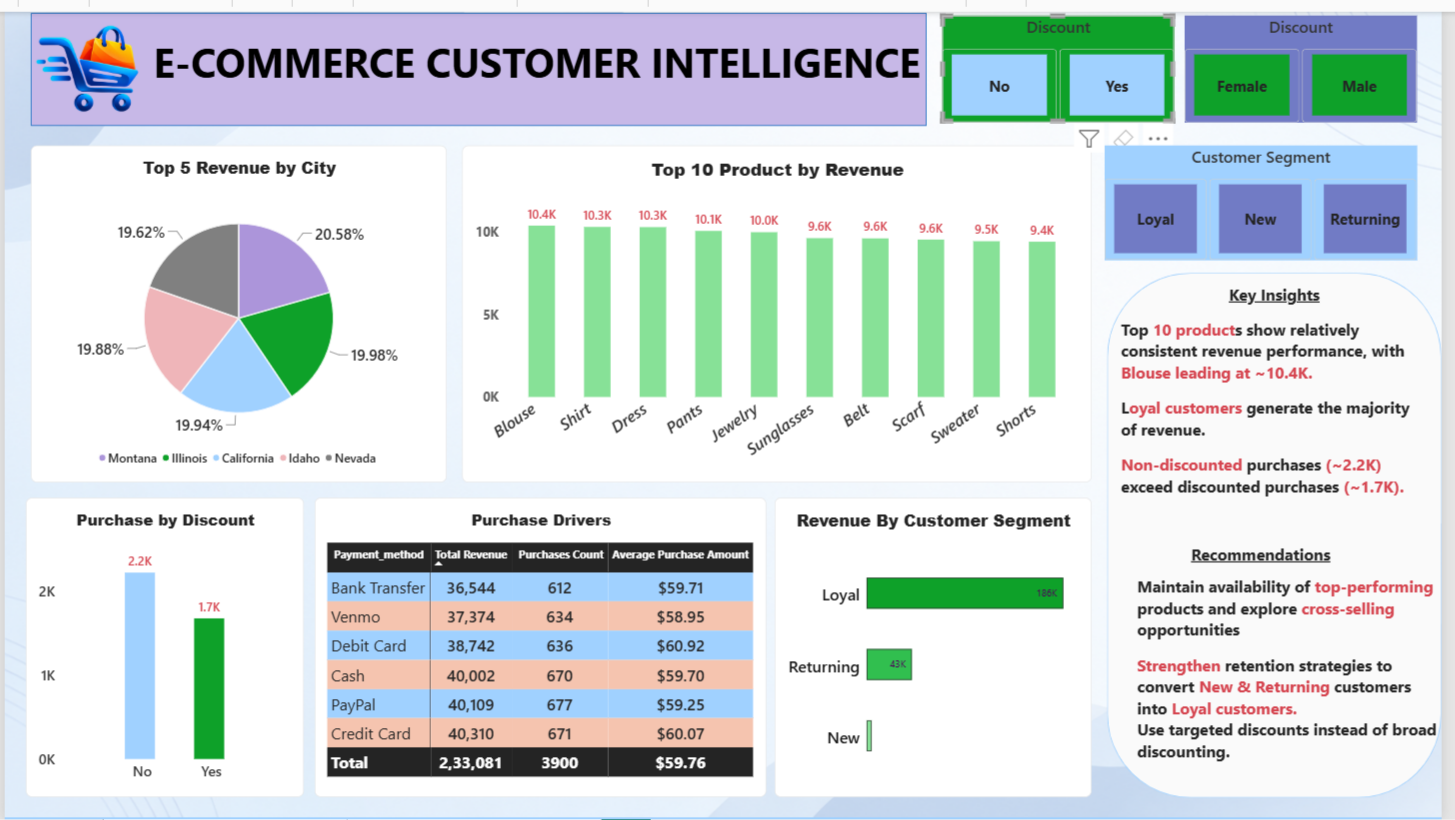

The page's visual inventory and layout, read from the dashboard file:
{"tool":"powerbi","page":{"name":"Customer & Purchase Insights","canvas":[1920,1080],"ordinal":1},"visuals":[{"type":"shape","box":[35.1,1.8,1196.5,150.9],"z":5000},{"type":"textbox","box":[482.5,477.2,679,151],"z":6000},{"type":"textbox","box":[198.2,29.8,1033.3,96.5],"z":7000},{"type":"image","box":[35.1,0,149.1,150.9],"z":8000},{"type":"barChart","title":" Revenue By Customer Segment","fields":{"Y":["public customer.Total Revenue"],"Category":["public customer.Customer Segment"]},"box":[1028.6,650,423.2,400],"z":9000},{"type":"clusteredColumnChart","title":"Purchase by Discount","fields":{"Category":["public customer.discount_applied"],"Y":["public customer.Total Purchases"]},"box":[28.6,650,371.4,400],"z":10000},{"type":"clusteredColumnChart","title":"Top 10 Product by Revenue","fields":{"Category":["public customer.item_purchased"],"Y":["public customer.Total Revenue"]},"box":[610.7,178.6,841.1,450],"z":11000},{"type":"advancedSlicerVisual","title":"Discount","fields":{"Values":["public customer.discount_applied"]},"box":[1251.8,5.4,310.7,142.9],"z":13000},{"type":"shape","box":[1473.2,348.2,446.4,701.8],"z":15000},{"type":"textbox","box":[1562.5,362.5,266.1,35.7],"z":16000},{"type":"textbox","box":[1528.6,708.9,300,44.6],"z":18000},{"type":"pivotTable","title":"Purchase Drivers","fields":{"Rows":["public customer.payment_method"],"Values":["public customer.Total Revenue","public customer.Total Purchases","public customer.Average Purchases Amount"]},"box":[414.3,650,603.6,400],"z":20000},{"type":"pieChart","title":"Top 5 Revenue by City","fields":{"Y":["public customer.Total Revenue"],"Category":["public customer.location"]},"box":[35.7,178.6,555.4,450],"z":20001},{"type":"advancedSlicerVisual","title":"Customer Segment","fields":{"Values":["public customer.Customer Segment"]},"box":[1469.6,178.6,417.9,153.6],"z":20002},{"type":"advancedSlicerVisual","title":"Discount","fields":{"Values":["public customer.gender"]},"box":[1576.8,5.4,310.7,142.9],"z":20003},{"type":"textbox","box":[1491.1,408.9,396.4,300],"z":20004},{"type":"textbox","box":[100,100,300,300],"z":20005},{"type":"textbox","box":[1512.5,753.6,407.1,266.1],"z":20006}]}

Visuals, with their boxes in screenshot pixels (x1, y1, x2, y2), scaled from the page's 1920x1080 canvas onto the 1455x820 screenshot:
shape: {"x1": 27, "y1": 1, "x2": 933, "y2": 116}
textbox: {"x1": 366, "y1": 362, "x2": 880, "y2": 477}
textbox: {"x1": 150, "y1": 23, "x2": 933, "y2": 96}
image: {"x1": 27, "y1": 0, "x2": 140, "y2": 115}
" Revenue By Customer Segment" barChart: {"x1": 779, "y1": 494, "x2": 1100, "y2": 797}
"Purchase by Discount" clusteredColumnChart: {"x1": 22, "y1": 494, "x2": 303, "y2": 797}
"Top 10 Product by Revenue" clusteredColumnChart: {"x1": 463, "y1": 136, "x2": 1100, "y2": 477}
"Discount" advancedSlicerVisual: {"x1": 949, "y1": 4, "x2": 1184, "y2": 113}
shape: {"x1": 1116, "y1": 264, "x2": 1454, "y2": 797}
textbox: {"x1": 1184, "y1": 275, "x2": 1386, "y2": 302}
textbox: {"x1": 1158, "y1": 538, "x2": 1386, "y2": 572}
"Purchase Drivers" pivotTable: {"x1": 314, "y1": 494, "x2": 771, "y2": 797}
"Top 5 Revenue by City" pieChart: {"x1": 27, "y1": 136, "x2": 448, "y2": 477}
"Customer Segment" advancedSlicerVisual: {"x1": 1114, "y1": 136, "x2": 1430, "y2": 252}
"Discount" advancedSlicerVisual: {"x1": 1195, "y1": 4, "x2": 1430, "y2": 113}
textbox: {"x1": 1130, "y1": 310, "x2": 1430, "y2": 538}
textbox: {"x1": 76, "y1": 76, "x2": 303, "y2": 304}
textbox: {"x1": 1146, "y1": 572, "x2": 1454, "y2": 774}
